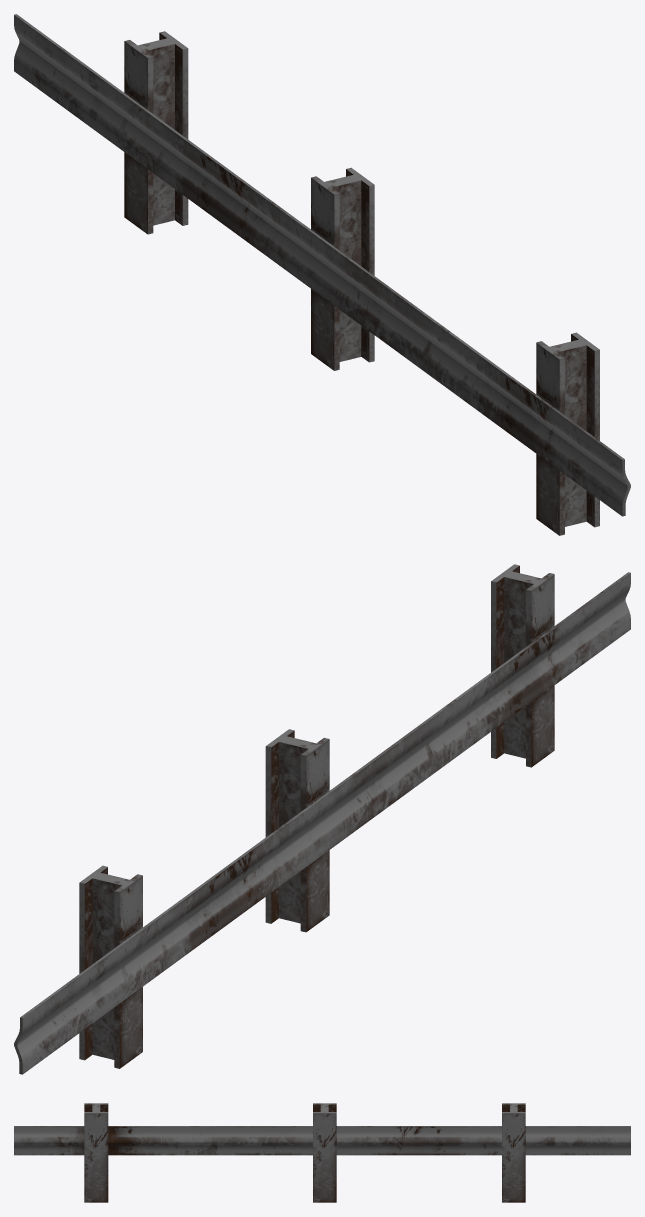
The model's file is aws_Fence_01_visual.DAE.
The picture shows the model from 3 angles, top to bottom: view 1: azimuth 30°, elevation 25°; view 2: azimuth 150°, elevation 25°; view 3: azimuth 270°, elevation 25°; orthographic projection. The views are drawn at different scales.
Visible parts, largest first — view 1: aws_Fence_01_visual; view 2: aws_Fence_01_visual; view 3: aws_Fence_01_visual.
Boxes of the visible parts, x1=… form: aws_Fence_01_visual: x1=14, y1=14, x2=630, y2=535; aws_Fence_01_visual: x1=14, y1=564, x2=630, y2=1074; aws_Fence_01_visual: x1=14, y1=1103, x2=630, y2=1202.
Size of the model in its own units: 34.95 by 781 by 125.
Materials: 1 (1 with a texture image).
